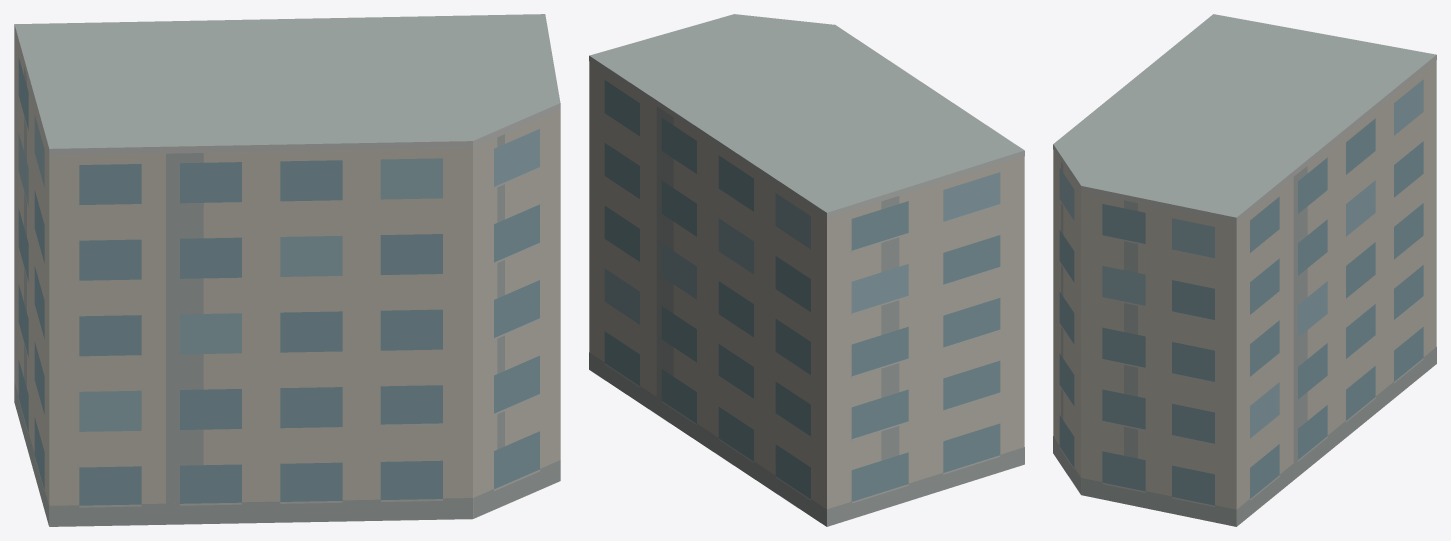
Rendered from survey-upis-32889993.glb.
The picture shows the model from 3 angles, left to right: view 1: azimuth 30°, elevation 25°; view 2: azimuth 150°, elevation 25°; view 3: azimuth 270°, elevation 25°; orthographic projection. The views are drawn at different scales.
Parts seen in each view (by area): view 1: survey-upis-32889993.tmp; view 2: survey-upis-32889993.tmp; view 3: survey-upis-32889993.tmp.
Boxes of the visible parts, x1,y1,x2,y2 form: survey-upis-32889993.tmp: [14, 14, 560, 526]; survey-upis-32889993.tmp: [589, 14, 1024, 526]; survey-upis-32889993.tmp: [1053, 14, 1436, 526].
Bounding box in the file's own units: 18.79 × 13.3 × 14.96.
